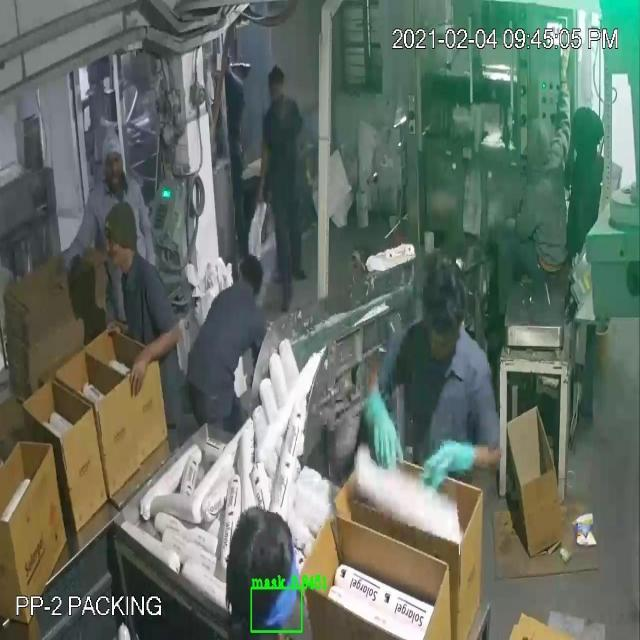No_Gloves: (20, 85, 452, 459)
